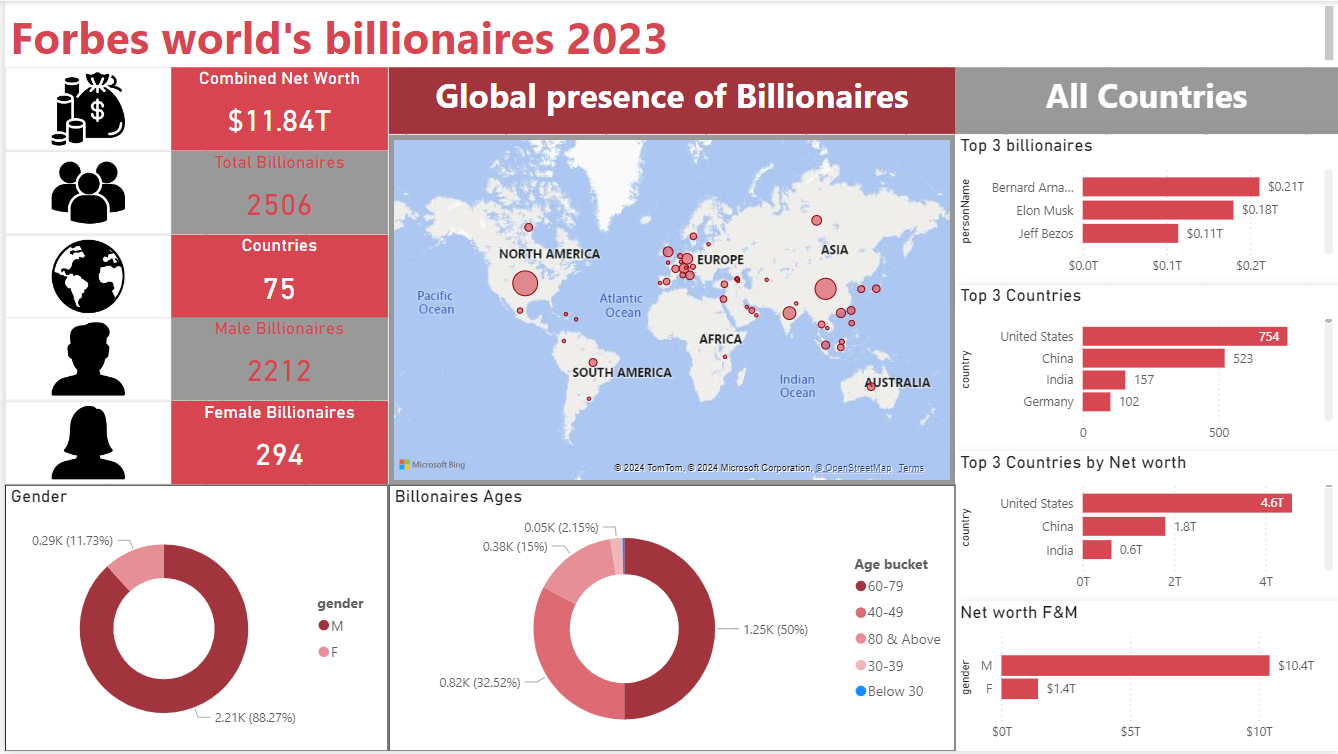

Layout of this report page (visuals, bound fields, positions):
{"tool":"powerbi","page":{"name":"Page 1","canvas":[1280,720],"ordinal":0},"visuals":[{"type":"textbox","box":[0,0,1280,64],"z":0},{"type":"shape","box":[0,64,160,80],"z":1000},{"type":"image","box":[0,64,160,80],"z":2000},{"type":"shape","box":[0,224,160,80],"z":3000},{"type":"shape","box":[0,304,160,80],"z":4000},{"type":"shape","box":[0,384,160,80],"z":5000},{"type":"shape","box":[0,144,160,80],"z":6000},{"type":"image","box":[0,144,160,80],"z":7000},{"type":"image","box":[0,224,160,80],"z":8000},{"type":"image","box":[0,304,160,80],"z":9000},{"type":"image","box":[0,384,160,80],"z":10000},{"type":"card","title":"Combined Net Worth","fields":{"Values":["Billionaires.Combined Net Worth"]},"box":[160,64,208,80],"z":11000},{"type":"card","title":"Countries","fields":{"Values":["Billionaires.countries"]},"box":[160,224,208,80],"z":12000},{"type":"card","title":"Female Billionaires","fields":{"Values":["Billionaires.female self made"]},"box":[160,384,208,80],"z":13000},{"type":"card","title":"Total Billionaires","fields":{"Values":["Billionaires.Total bill"]},"box":[160,144,208,80],"z":14000},{"type":"card","title":"Male Billionaires","fields":{"Values":["Billionaires.male self made"]},"box":[160,304,208,80],"z":15000},{"type":"textbox","box":[368,64,544,64],"z":16000},{"type":"map","fields":{"Category":["Bill.country"],"Size":["Bill.number of bill"]},"box":[368,128,544,336],"z":17000},{"type":"textbox","box":[912,64,368,64],"z":18000},{"type":"clusteredBarChart","title":"Top 3 billionaires","fields":{"Category":["Billionaires.personName"],"Y":["Billionaires.Value"]},"box":[912,128,368,144],"z":19000},{"type":"clusteredBarChart","title":"Top 3 Countries","fields":{"Y":["sorted_bill.count"],"Category":["sorted_bill.country"]},"box":[912,272,368,160],"z":20000},{"type":"clusteredBarChart","title":"Top 3 Countries by Net worth","fields":{"Category":["sorted_bill.country"],"Y":["sorted_bill.Net Worth"]},"box":[912,432,368,144],"z":21000},{"type":"clusteredBarChart","title":"Net worth F&M","fields":{"Category":["Billionaires.gender"],"Y":["Billionaires.Value"]},"box":[912,576,368,144],"z":22000},{"type":"donutChart","title":"Billonaires Ages","fields":{"Category":["Billionaires.Age bucket"],"Y":["Billionaires.Age bucket"]},"box":[368,464,544,256],"z":23000},{"type":"donutChart","title":"Gender","fields":{"Category":["Billionaires.gender"],"Y":["Billionaires.Age bucket"]},"box":[0,464,368,256],"z":24000}]}

Visuals, with their boxes in screenshot pixels (x1, y1, x2, y2), scaled from the page's 1280x720 canvas onto the 1338x754 screenshot:
textbox: rect(0, 0, 1337, 67)
shape: rect(0, 67, 167, 151)
image: rect(0, 67, 167, 151)
shape: rect(0, 235, 167, 318)
shape: rect(0, 318, 167, 402)
shape: rect(0, 402, 167, 486)
shape: rect(0, 151, 167, 235)
image: rect(0, 151, 167, 235)
image: rect(0, 235, 167, 318)
image: rect(0, 318, 167, 402)
image: rect(0, 402, 167, 486)
"Combined Net Worth" card: rect(167, 67, 385, 151)
"Countries" card: rect(167, 235, 385, 318)
"Female Billionaires" card: rect(167, 402, 385, 486)
"Total Billionaires" card: rect(167, 151, 385, 235)
"Male Billionaires" card: rect(167, 318, 385, 402)
textbox: rect(385, 67, 953, 134)
map - Bill.country x Bill.number of bill: rect(385, 134, 953, 486)
textbox: rect(953, 67, 1337, 134)
"Top 3 billionaires" clusteredBarChart: rect(953, 134, 1337, 285)
"Top 3 Countries" clusteredBarChart: rect(953, 285, 1337, 452)
"Top 3 Countries by Net worth" clusteredBarChart: rect(953, 452, 1337, 603)
"Net worth F&M" clusteredBarChart: rect(953, 603, 1337, 753)
"Billonaires Ages" donutChart: rect(385, 486, 953, 753)
"Gender" donutChart: rect(0, 486, 385, 753)
